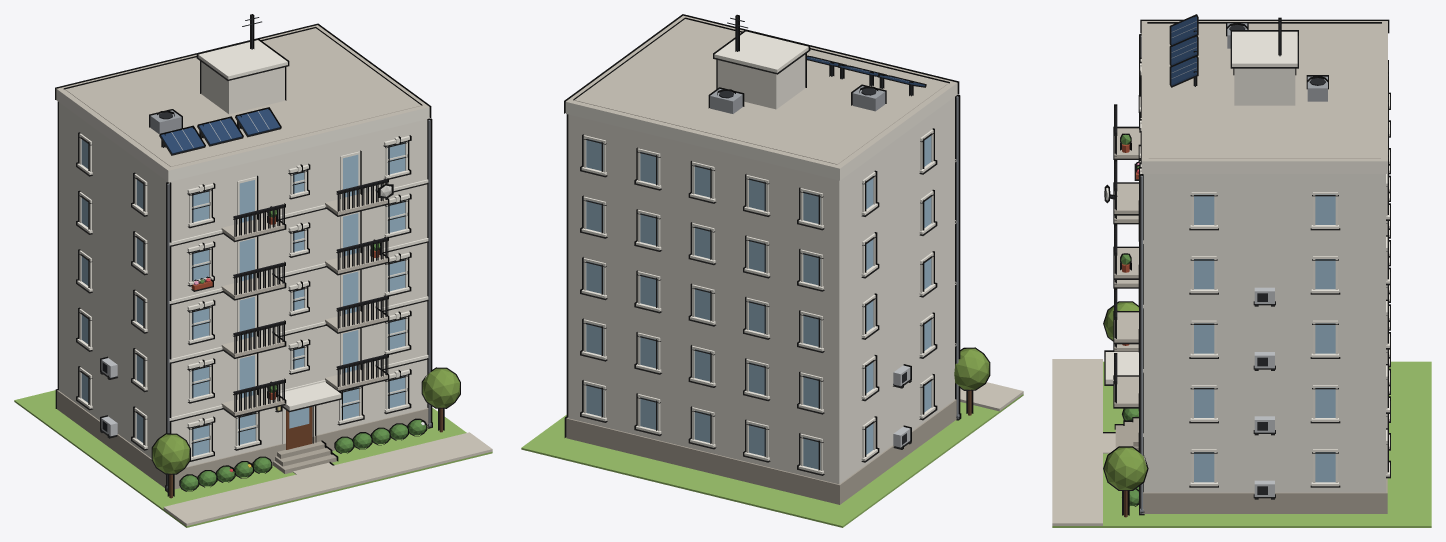
File: Apartman_1_2.fbx
3 views of the same model, side by side, from view 1: azimuth 30°, elevation 25°; view 2: azimuth 150°, elevation 25°; view 3: azimuth 270°, elevation 25° (orthographic). The views are drawn at different scales.
Parts seen in each view (by area): view 1: Apartman_1_2; view 2: Apartman_1_2; view 3: Apartman_1_2.
Part boxes in pixels (box(x1,y1,x2,y2)): Apartman_1_2: box(14, 14, 492, 527); Apartman_1_2: box(521, 14, 1023, 527); Apartman_1_2: box(1052, 14, 1431, 527).
Size of the model in its own units: 15.34 by 18.98 by 14.96.
